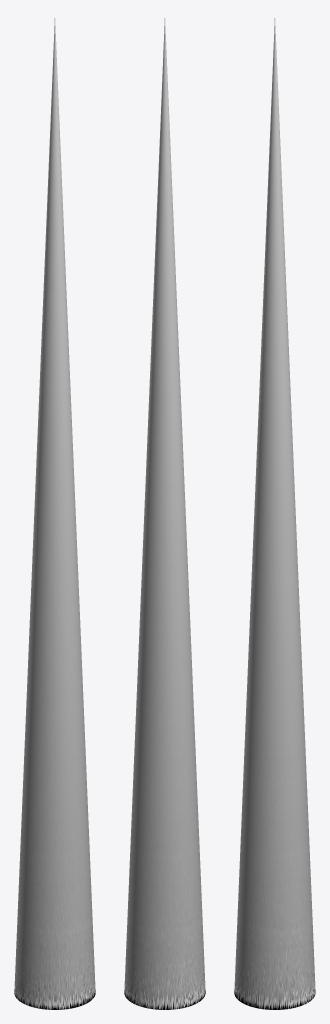
The model's file is SpotLightRay3.obj.
3 renders of one model, left to right at view 1: azimuth 90°, elevation 25°; view 2: azimuth 150°, elevation 25°; view 3: azimuth 270°, elevation 25°, orthographic.
Parts seen in each view (by area): view 1: Cone; view 2: Cone; view 3: Cone.
Part boxes in pixels (<box>): Cone: <box>14,18,95,1009</box>; Cone: <box>124,18,205,1009</box>; Cone: <box>234,18,315,1009</box>.
Size of the model in its own units: 0.14 by 1.86 by 0.14.
